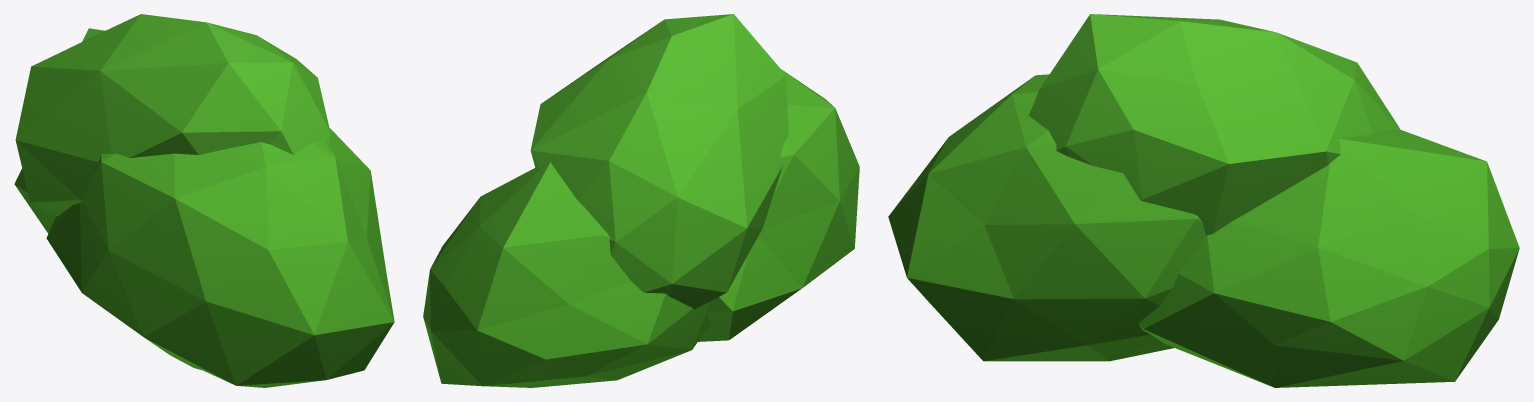
The model's file is bush_1.fbx.
3 renders of one model, left to right at view 1: azimuth 30°, elevation 25°; view 2: azimuth 150°, elevation 25°; view 3: azimuth 270°, elevation 25°, orthographic. The views are drawn at different scales.
Parts seen in each view (by area): view 1: Bush_1; view 2: Bush_1; view 3: Bush_1.
Part boxes in pixels (x1=…): Bush_1: x1=14, y1=14, x2=394, y2=387; Bush_1: x1=423, y1=14, x2=859, y2=387; Bush_1: x1=888, y1=14, x2=1519, y2=387.
Size of the model in its own units: 3.75 by 2.17 by 2.21.
